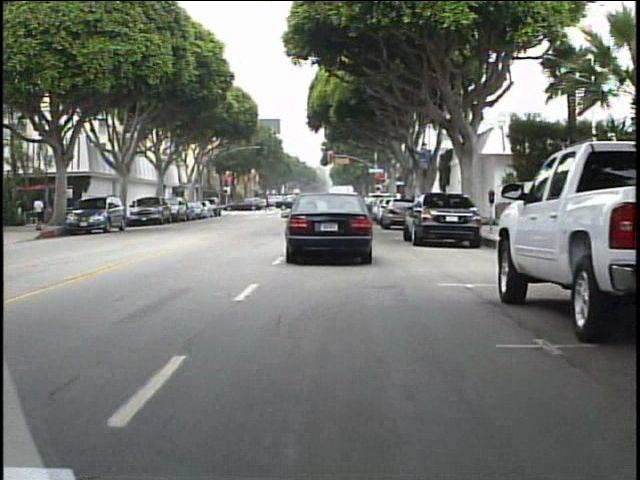person: (32, 193, 50, 234), (263, 193, 277, 216)
